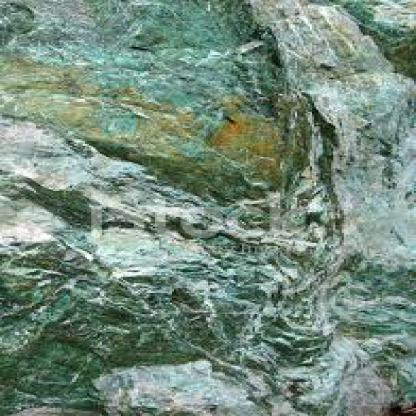Metamorphic_Marble: (4, 3, 414, 414)
